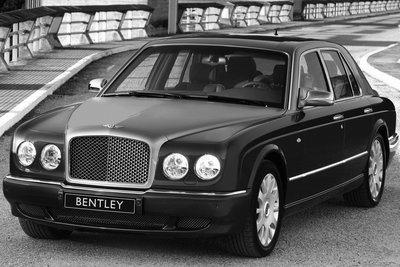car: (2, 35, 399, 261)
